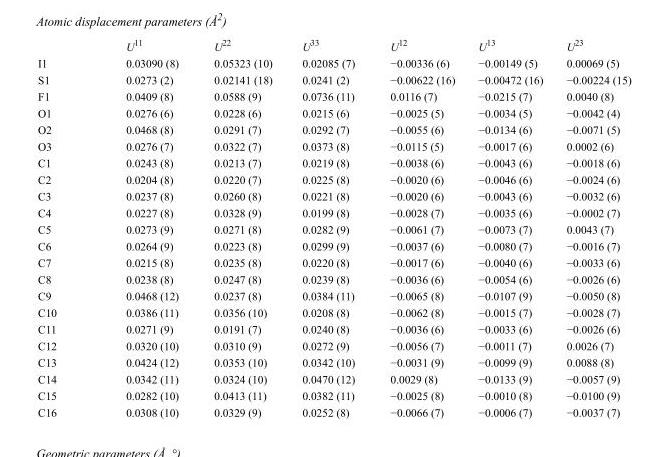table: (37, 37, 630, 418)
table column: (90, 37, 195, 418), (371, 37, 466, 418), (195, 37, 286, 418), (466, 37, 554, 418), (286, 37, 371, 418), (554, 37, 630, 418), (37, 37, 90, 418)
table column header: (37, 37, 630, 54)
table row: (37, 37, 630, 54), (37, 54, 630, 71), (37, 87, 630, 104), (37, 120, 630, 137), (37, 137, 630, 154), (37, 170, 630, 187), (37, 187, 630, 204), (37, 220, 630, 237), (37, 253, 630, 270), (37, 270, 630, 287), (37, 303, 630, 320), (37, 320, 630, 337), (37, 353, 630, 370), (37, 386, 630, 403), (37, 71, 630, 87), (37, 104, 630, 120), (37, 154, 630, 170), (37, 204, 630, 220), (37, 237, 630, 253), (37, 287, 630, 303), (37, 337, 630, 353), (37, 370, 630, 386), (37, 403, 630, 418)
